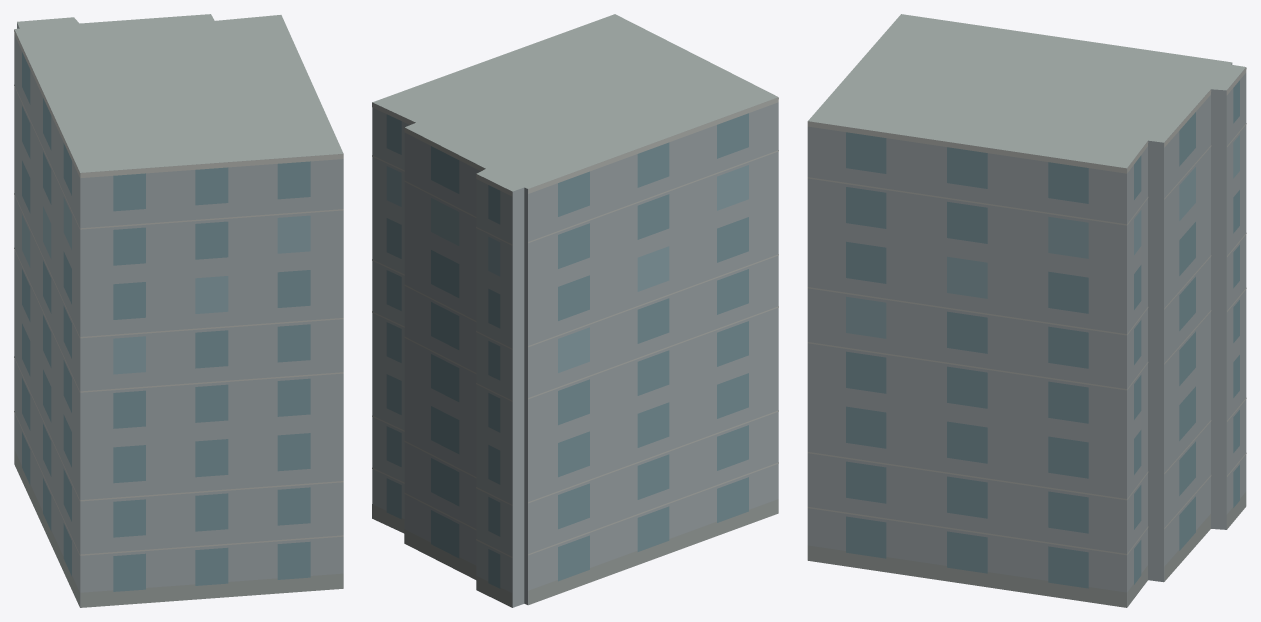
Rendered from survey-upis-32963548.glb.
3 views of the same model, side by side, from view 1: azimuth 30°, elevation 25°; view 2: azimuth 150°, elevation 25°; view 3: azimuth 270°, elevation 25° (orthographic). The views are drawn at different scales.
Parts seen in each view (by area): view 1: survey-upis-32963548.tmp; view 2: survey-upis-32963548.tmp; view 3: survey-upis-32963548.tmp.
Part boxes in pixels (box(x1,y1,x2,y2)): survey-upis-32963548.tmp: box(14, 14, 343, 607); survey-upis-32963548.tmp: box(372, 14, 778, 607); survey-upis-32963548.tmp: box(807, 14, 1246, 607).
Bounding box in the file's own units: 15.09 × 20 × 18.11.
